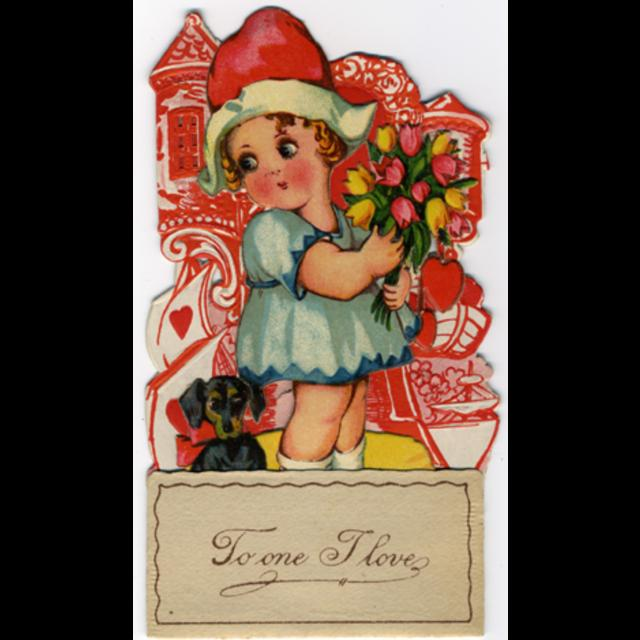Flower: (422, 131, 476, 263), (341, 160, 377, 198), (342, 196, 373, 234), (374, 156, 406, 190), (396, 122, 419, 156), (389, 200, 416, 228), (374, 123, 394, 151), (408, 182, 424, 202)
